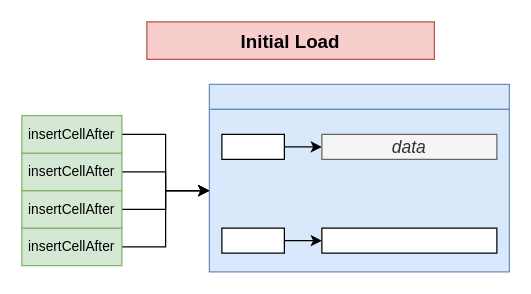
The diagram is 531 pixels wide and 294 high, and some of its shapes have lost their labels. Here are the shapes that lost their labels. From the top down, the centre of each, then its label:
the point at 358,96: Redux Store
the point at 252,146: cells
the point at 252,240: bundles
